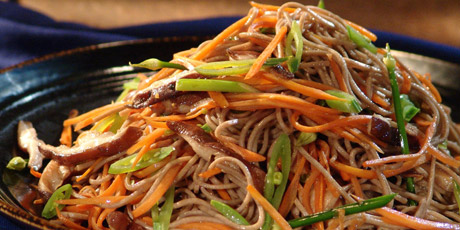Soba: (45, 44, 459, 230)
